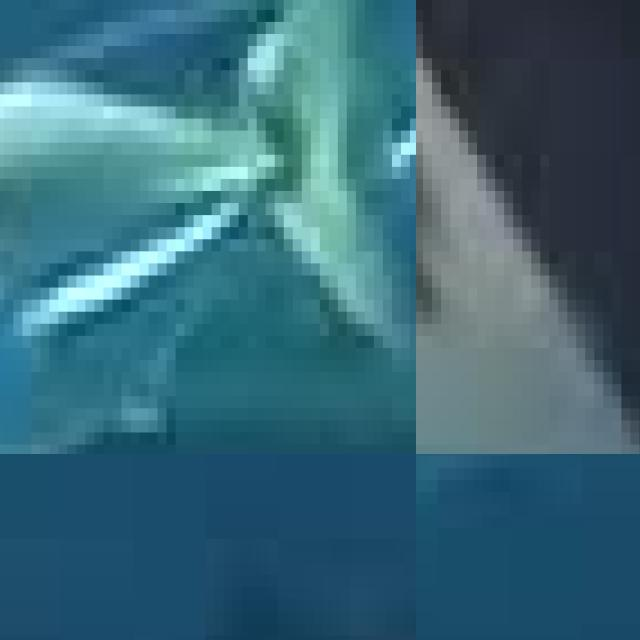fish: (0, 0, 416, 454), (416, 0, 640, 454)
